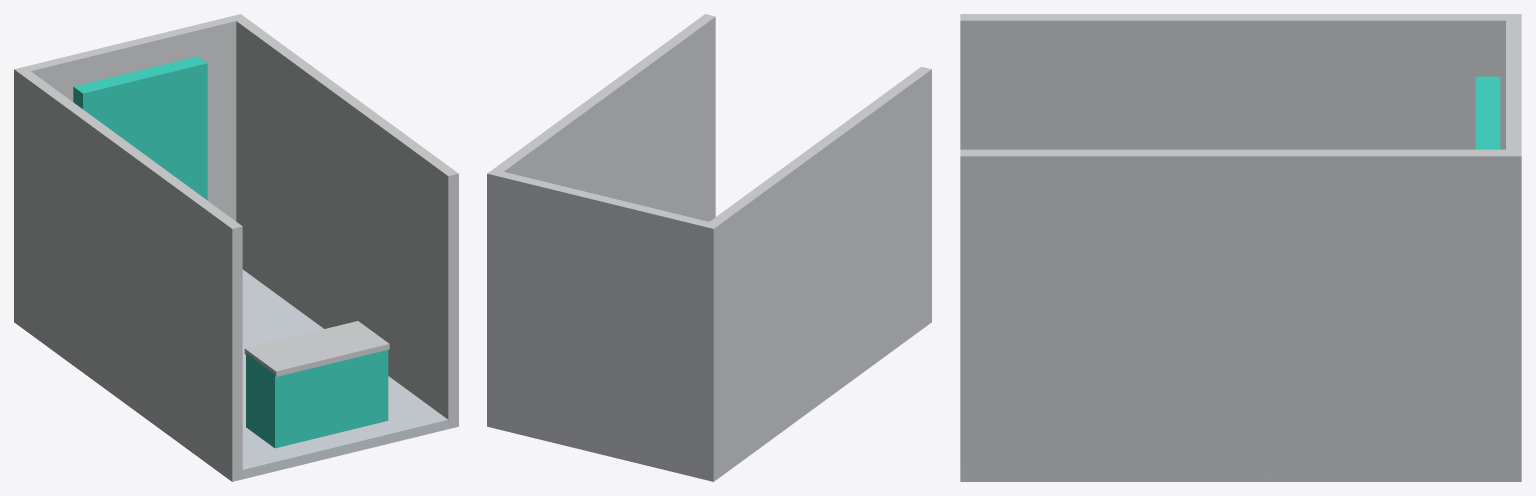
The picture shows the model from 3 angles, left to right: view 1: azimuth 30°, elevation 25°; view 2: azimuth 150°, elevation 25°; view 3: azimuth 270°, elevation 25°; orthographic projection. The views are drawn at different scales.
Parts seen in each view (by area): view 1: Exhibition Booth Concept; view 2: Exhibition Booth Concept; view 3: Exhibition Booth Concept.
Boxes of the visible parts, bbox=[...] form: Exhibition Booth Concept: bbox=[14, 14, 458, 481]; Exhibition Booth Concept: bbox=[487, 14, 931, 481]; Exhibition Booth Concept: bbox=[960, 14, 1521, 481].
Size of the model in its own units: 3 by 3.2 by 5.
